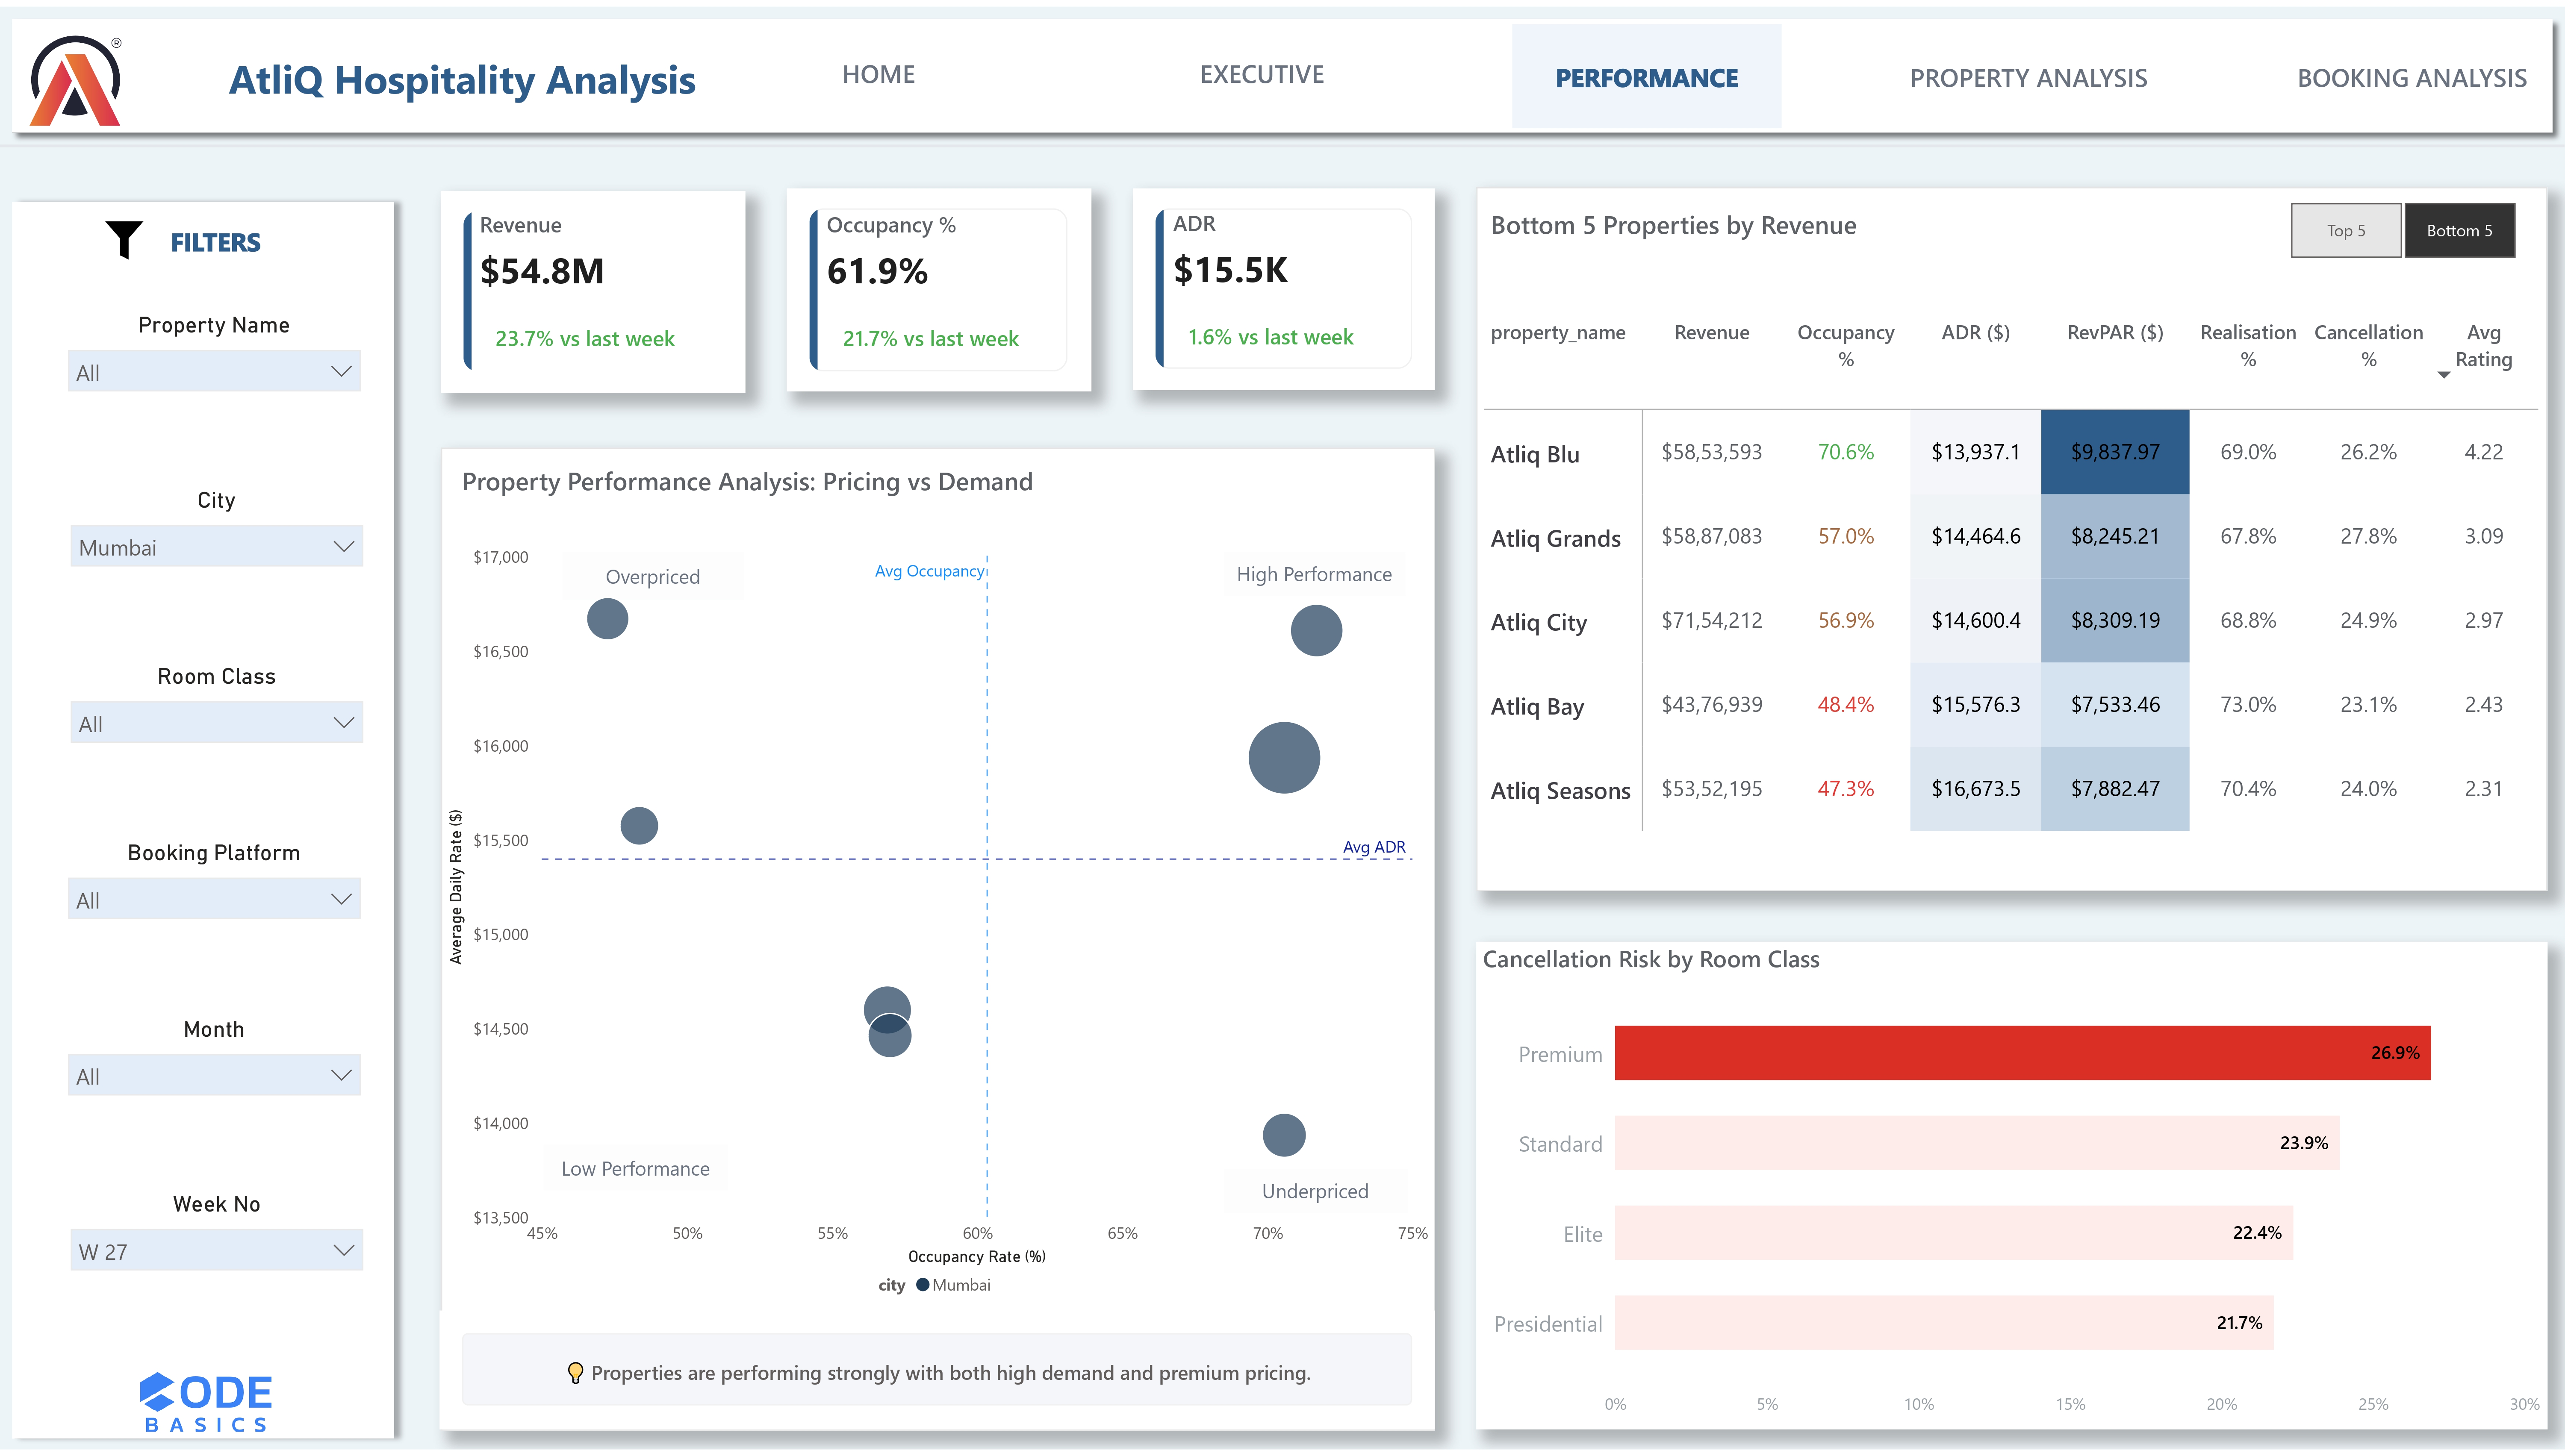

This screenshot's page, from the dashboard's own definition file:
{"tool":"powerbi","page":{"name":"Performance View","canvas":[1920,1080],"ordinal":2},"visuals":[{"type":"shape","title":"Left_Filter Pane","box":[0,137,304,944],"z":0},{"type":"shape","title":"Top_Nav Bar","box":[0,0,1919.7,103.3],"z":1000},{"type":"shape","title":"Back: Matrix","box":[1104.8,135.5,801.6,527.4],"z":2000},{"type":"shape","title":"Back: Scatter","box":[329.5,329.5,744.3,736.1],"z":3000},{"type":"shape","title":"High Performance","box":[916.4,408.2,136.1,32.8],"z":4000},{"type":"shape","title":"Underpriced","box":[916.4,870.5,137.7,32.8],"z":5000},{"type":"shape","title":"Low Performance","box":[406.6,852.5,137.7,34.4],"z":6000},{"type":"shape","title":"Overpriced","box":[421.3,408.2,136.1,36.1],"z":7000},{"type":"shape","title":"Title: Scatter","box":[345.9,329.5,450.8,49.2],"z":8000},{"type":"shape","title":"Title: Matrix","box":[1106.5,137.1,467.7,50],"z":9000},{"type":"shape","title":"Divider Line","box":[0,86.9,1919.7,34.4],"z":10000},{"type":"cardVisual","title":"Insight text","fields":{"Data":["Key Measures.Performance Insight"]},"box":[329,975.8,745.2,88.7],"z":11000},{"type":"image","title":"Atliq Logo","box":[21.3,13.1,72.1,83.6],"z":12000},{"type":"slicer","title":"Slicer: Top/Bottom","fields":{"Values":["TopBottom Selector.Selection"]},"box":[1688.7,140.3,217.7,54.8],"z":12500},{"type":"image","title":"CB Logo","box":[93.3,1021.7,121.7,45],"z":13000},{"type":"shape","title":"Title text","box":[160.7,13.1,370.5,78.7],"z":14000},{"type":"shape","title":"Filters text","box":[101,156,121,38],"z":15000},{"type":"image","title":"Filter Icon","box":[74,156,38,38],"z":16000},{"type":"slicer","title":"Property Name","fields":{"Values":["dim_hotels.property_name"]},"box":[26.2,217.5,253.8,98.8],"z":17000},{"type":"slicer","title":"Booking Platform","fields":{"Values":["fact_bookings.booking_platform"]},"box":[26.2,612.8,253.8,98.8],"z":18000},{"type":"slicer","title":"Week No","fields":{"Values":["dim_date.week no"]},"box":[27.5,876.2,253.8,98.8],"z":19000},{"type":"slicer","title":"Room Class","fields":{"Values":["dim_rooms.room_class"]},"box":[27.5,481,253.8,98.8],"z":20000},{"type":"slicer","title":"City","fields":{"Values":["dim_hotels.city"]},"box":[27.5,349.2,253.8,98.8],"z":21000},{"type":"slicer","title":"Month","fields":{"Values":["dim_date.mmm yy"]},"box":[26.2,744.5,253.8,98.8],"z":22000},{"type":"actionButton","title":"HOME Button","box":[557.4,13.1,201.6,73.8],"z":23000},{"type":"actionButton","title":"EXECUTIVE Button","box":[844.3,13.1,201.6,73.8],"z":24000},{"type":"actionButton","title":"PERFORMANCE Button","box":[1131.7,13.3,201.7,78.3],"z":25000},{"type":"actionButton","title":"PROPERTY Button","box":[1418.3,13.3,201.7,78.3],"z":26000},{"type":"actionButton","title":"BOOKING Button","box":[1705,11.7,201.7,80],"z":27000},{"type":"clusteredBarChart","title":"Cancellation Risk by Room Class","fields":{"Y":["Key Measures.Cancellation %"],"Category":["dim_rooms.room_class"]},"box":[1104.8,700,801.6,364.5],"z":27500},{"type":"scatterChart","title":"Scatter Plot","fields":{"X":["Key Measures.Occupancy %"],"Y":["Key Measures.ADR (Average Daily Rate)"],"Size":["Key Measures.Total Revenue"],"Category":["dim_hotels.property_name"],"Series":["dim_hotels.city"]},"box":[329.5,398.4,744.3,577],"z":28000},{"type":"pivotTable","fields":{"Rows":["dim_hotels.property_name"],"Values":["Key Measures.Total Revenue","Key Measures.Occupancy %","Key Measures.ADR (Average Daily Rate)","Key Measures.RevPAR (Revenue Per Available Room)","Key Measures.Realisation %","Key Measures.Cancellation %","Key Measures.Average Rating"]},"box":[1106.5,208.1,800,430.6],"z":29000},{"type":"cardVisual","title":"KPI: Revenue","fields":{"Data":["Key Measures.Revenue Display"]},"box":[329.5,137.7,227.9,150.8],"z":30000},{"type":"cardVisual","title":"KPI: Occupancy %","fields":{"Data":["Key Measures.Occupancy %"]},"box":[588.5,136.1,227.9,152.5],"z":31000},{"type":"cardVisual","title":"KPI: ADR","fields":{"Data":["Key Measures.ADR (Average Daily Rate)"]},"box":[847.5,136.1,226.2,150.8],"z":32000}]}

Visuals, with their boxes in screenshot pixels (x1, y1, x2, y2), scaled from the page's 1920x1080 canvas onto the 2565x1456 screenshot:
"Left_Filter Pane" shape: bbox=[0, 185, 406, 1456]
"Top_Nav Bar" shape: bbox=[0, 0, 2565, 139]
"Back: Matrix" shape: bbox=[1476, 182, 2547, 894]
"Back: Scatter" shape: bbox=[440, 444, 1435, 1437]
"High Performance" shape: bbox=[1224, 550, 1406, 594]
"Underpriced" shape: bbox=[1224, 1174, 1408, 1218]
"Low Performance" shape: bbox=[543, 1149, 727, 1196]
"Overpriced" shape: bbox=[563, 550, 745, 599]
"Title: Scatter" shape: bbox=[462, 444, 1064, 511]
"Title: Matrix" shape: bbox=[1478, 185, 2103, 252]
"Divider Line" shape: bbox=[0, 117, 2565, 164]
"Insight text" cardVisual: bbox=[439, 1315, 1435, 1435]
"Atliq Logo" image: bbox=[29, 18, 125, 130]
"Slicer: Top/Bottom" slicer: bbox=[2256, 189, 2547, 263]
"CB Logo" image: bbox=[125, 1377, 287, 1438]
"Title text" shape: bbox=[215, 18, 710, 124]
"Filters text" shape: bbox=[135, 210, 297, 262]
"Filter Icon" image: bbox=[99, 210, 150, 262]
"Property Name" slicer: bbox=[35, 293, 374, 427]
"Booking Platform" slicer: bbox=[35, 826, 374, 959]
"Week No" slicer: bbox=[37, 1181, 376, 1315]
"Room Class" slicer: bbox=[37, 648, 376, 782]
"City" slicer: bbox=[37, 471, 376, 604]
"Month" slicer: bbox=[35, 1004, 374, 1137]
"HOME Button" actionButton: bbox=[745, 18, 1014, 117]
"EXECUTIVE Button" actionButton: bbox=[1128, 18, 1397, 117]
"PERFORMANCE Button" actionButton: bbox=[1512, 18, 1781, 124]
"PROPERTY Button" actionButton: bbox=[1895, 18, 2164, 124]
"BOOKING Button" actionButton: bbox=[2278, 16, 2547, 124]
"Cancellation Risk by Room Class" clusteredBarChart: bbox=[1476, 944, 2547, 1435]
"Scatter Plot" scatterChart: bbox=[440, 537, 1435, 1315]
pivotTable - dim_hotels.property_name x Key Measures.Total Revenue: bbox=[1478, 280, 2547, 861]
"KPI: Revenue" cardVisual: bbox=[440, 185, 745, 389]
"KPI: Occupancy %" cardVisual: bbox=[786, 183, 1091, 389]
"KPI: ADR" cardVisual: bbox=[1132, 183, 1434, 387]
